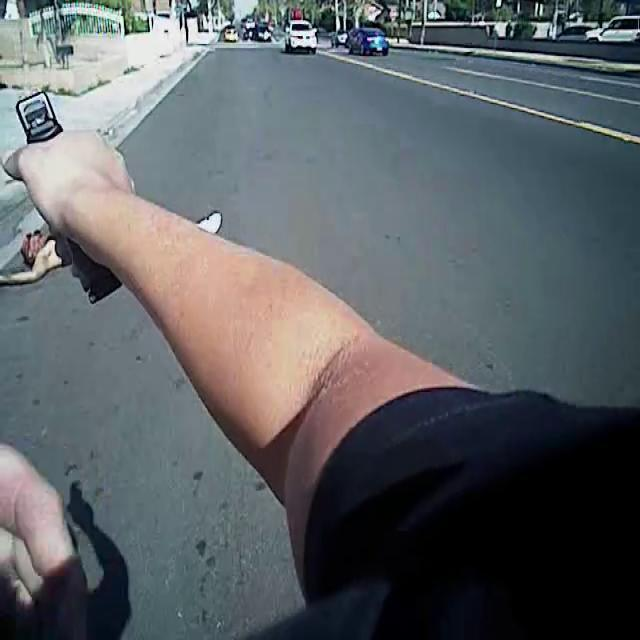gun: (0, 66, 148, 313)
